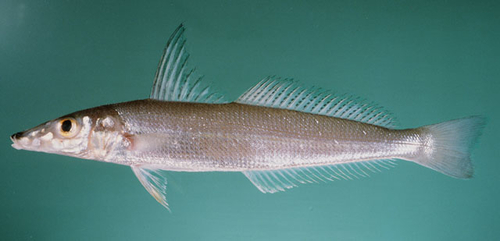kiss: (7, 81, 485, 213)
